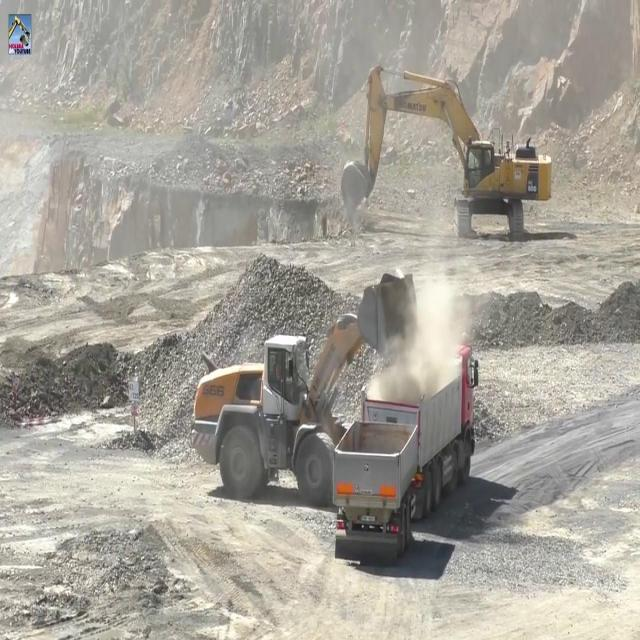Dump Truck: (331, 332, 481, 570)
Excavator: (340, 62, 552, 242)
Loader: (191, 270, 419, 502)
